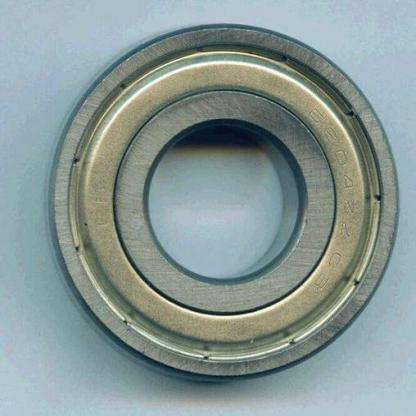FOD: (39, 15, 407, 392)
